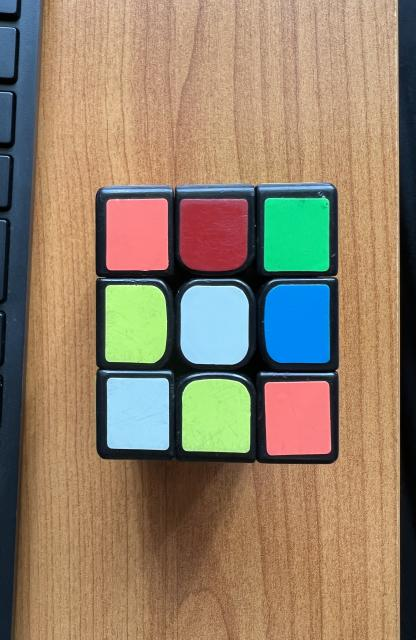Blue: (264, 285, 330, 364)
Green: (264, 198, 329, 271)
Orange: (264, 381, 332, 455), (106, 199, 169, 271)
Red: (180, 199, 248, 271)
White: (180, 285, 249, 365), (107, 378, 169, 450)
Yellow: (182, 379, 250, 452), (105, 285, 167, 364)
